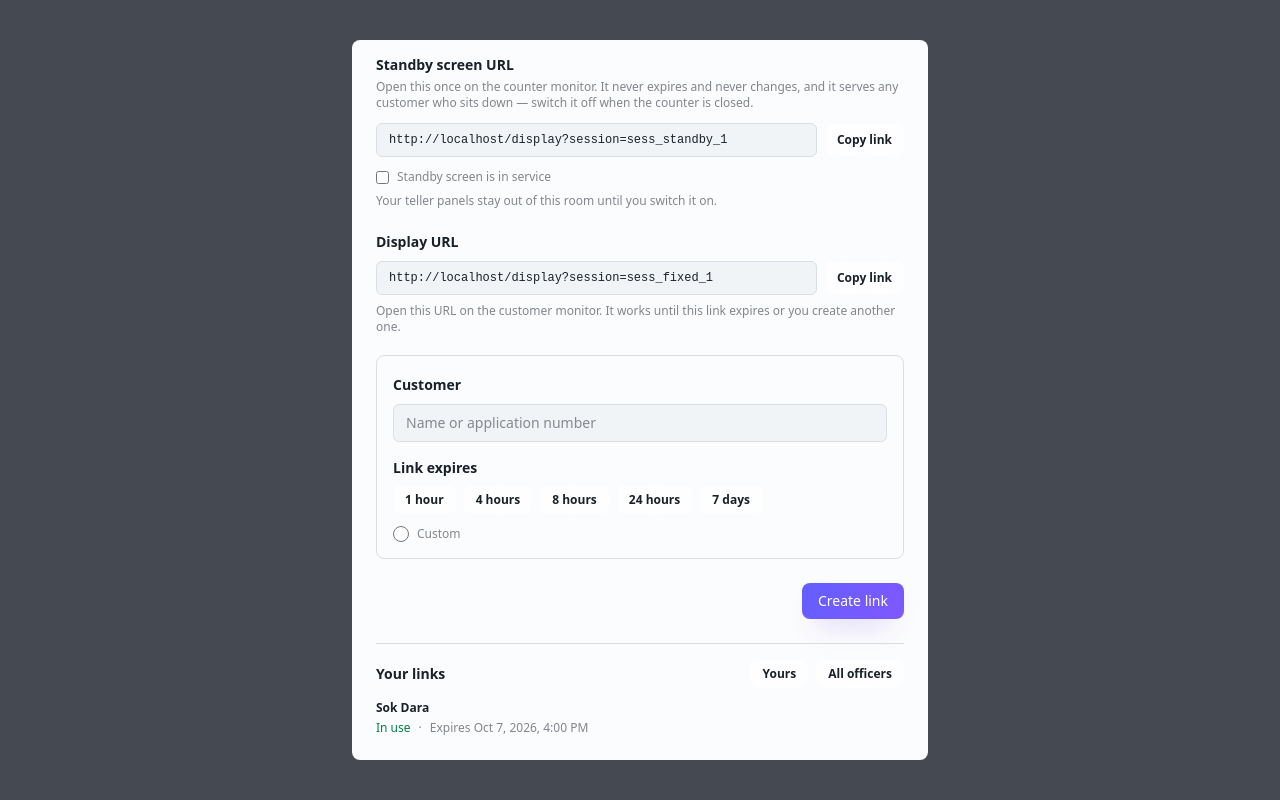
Test: LivenessPageModal › refuses to mint without a customer label
(page scrolled)
Expected: the field labelled "Display URL" is shown, 376,261 -> 817,295
What coordinates should you click on to do the following:
click the button "Create link"
I would click on:
 (853, 601)
Its box is 802,583 -> 904,619.
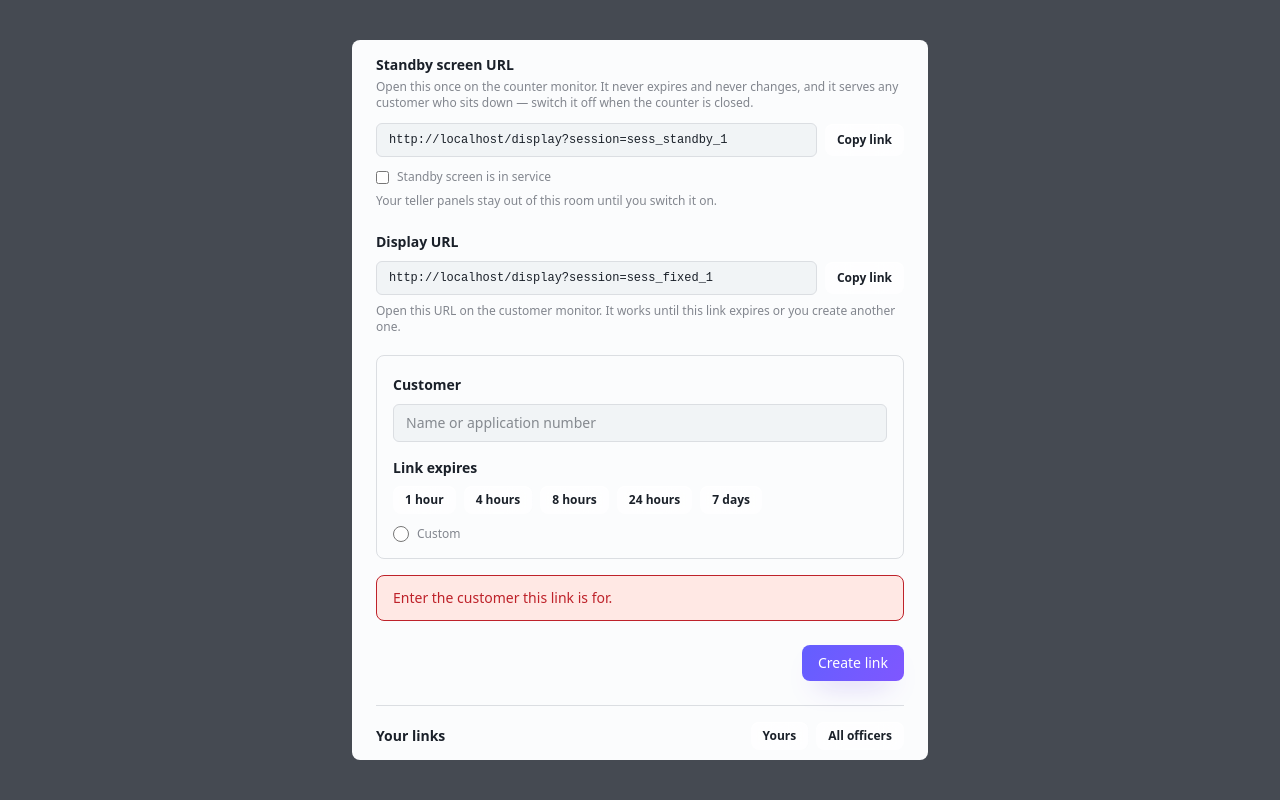
Expected: the text "Enter the customer this link is for." is shown, 376,575 -> 904,621
